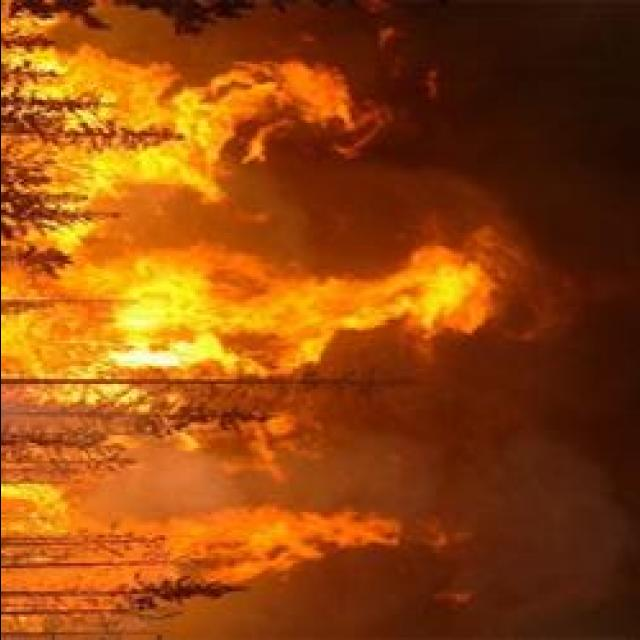fire: (203, 248, 493, 372), (0, 71, 236, 193), (2, 252, 192, 378), (138, 505, 358, 578)
smoke: (424, 464, 616, 640), (499, 203, 622, 387)
